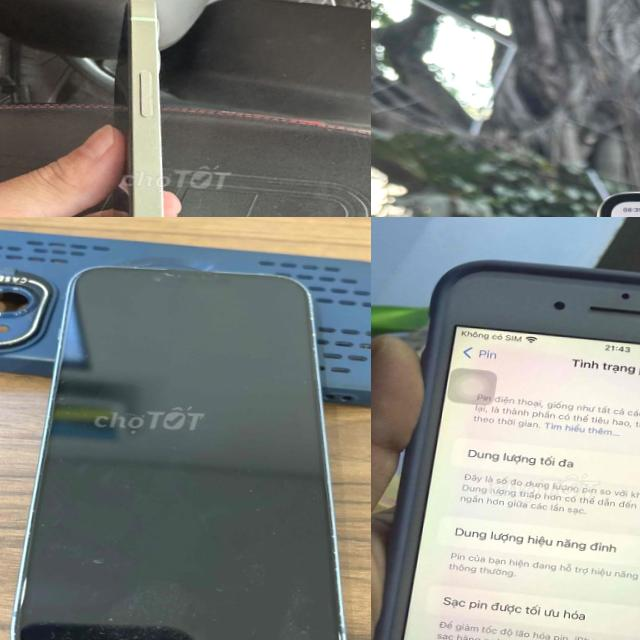scratch: (114, 256, 248, 292), (235, 481, 289, 536), (66, 544, 120, 572)
